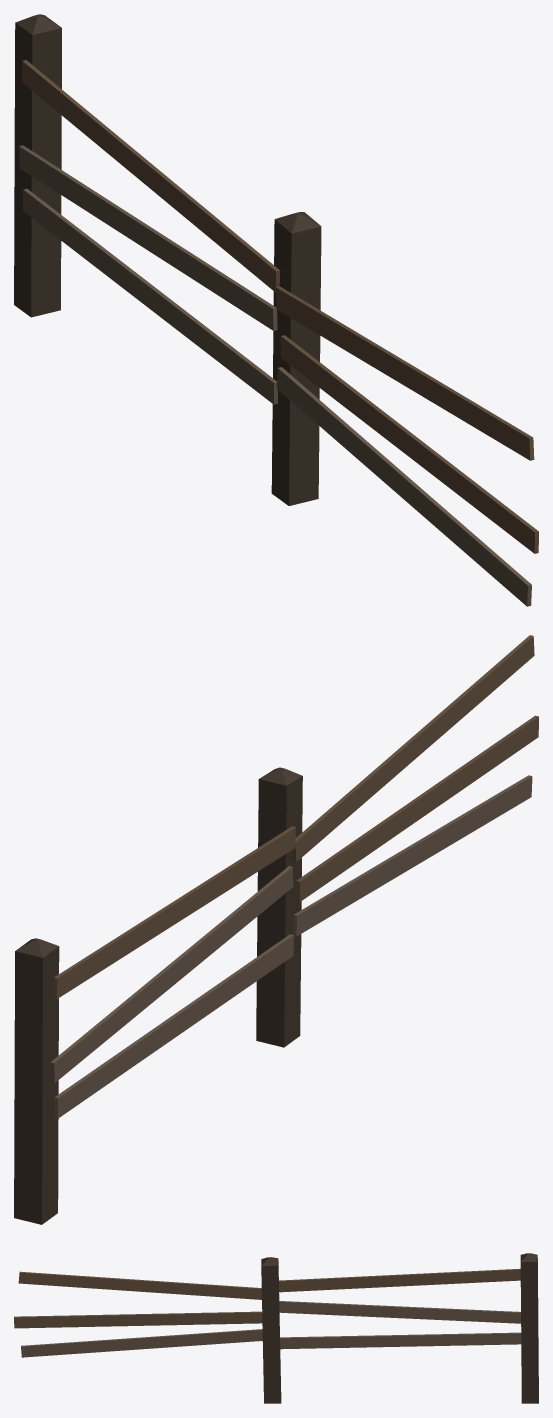
Rendered from Fence.fbx.
The picture shows the model from 3 angles, top to bottom: view 1: azimuth 30°, elevation 25°; view 2: azimuth 150°, elevation 25°; view 3: azimuth 270°, elevation 25°; orthographic projection. The views are drawn at different scales.
Parts seen in each view (by area): view 1: pCube11; view 2: pCube11; view 3: pCube11.
Part boxes in pixels (x1=…): pCube11: x1=14, y1=14, x2=538, y2=606; pCube11: x1=14, y1=635, x2=538, y2=1224; pCube11: x1=14, y1=1253, x2=538, y2=1403.
Size of the model in its own units: 0.2269 by 1.88 by 6.11.
